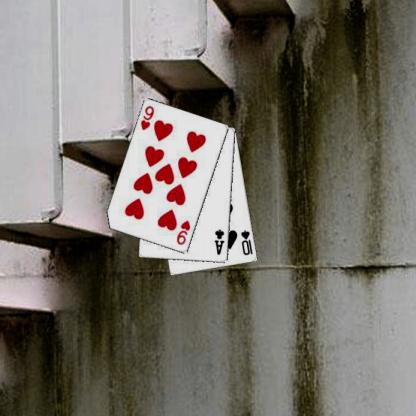10S: (239, 228, 254, 257)
9H: (174, 218, 192, 246), (138, 104, 155, 132)
AC: (212, 227, 226, 256)
